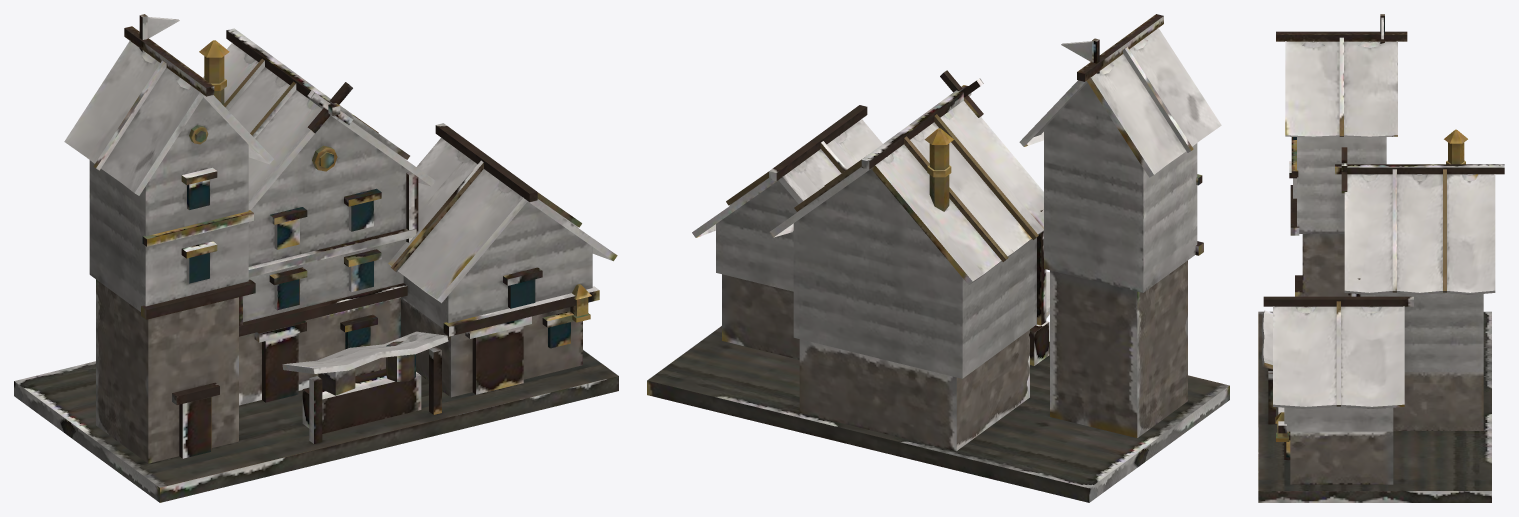
Rendered from pirate_stone_town.glb.
The picture shows the model from 3 angles, left to right: view 1: azimuth 30°, elevation 25°; view 2: azimuth 150°, elevation 25°; view 3: azimuth 270°, elevation 25°; orthographic projection. The views are drawn at different scales.
Visible parts, largest first — view 1: FixedDetails, WoodBody, BrassTrim; view 2: WoodBody, FixedDetails, BrassTrim; view 3: WoodBody, FixedDetails, BrassTrim.
Part boxes in pixels (<box>): FixedDetails: <box>14,14,618,502</box>; WoodBody: <box>64,17,617,373</box>; BrassTrim: <box>189,40,591,322</box>; WoodBody: <box>692,27,1221,378</box>; FixedDetails: <box>647,14,1229,502</box>; BrassTrim: <box>924,128,953,211</box>; WoodBody: <box>1261,17,1495,431</box>; FixedDetails: <box>1258,14,1504,502</box>; BrassTrim: <box>1275,129,1467,441</box>.
Size of the model in its own units: 0.47 by 0.385 by 0.2585.
3 materials, 3 textured.
